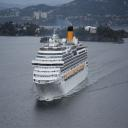cruises: (32, 26, 90, 102)
